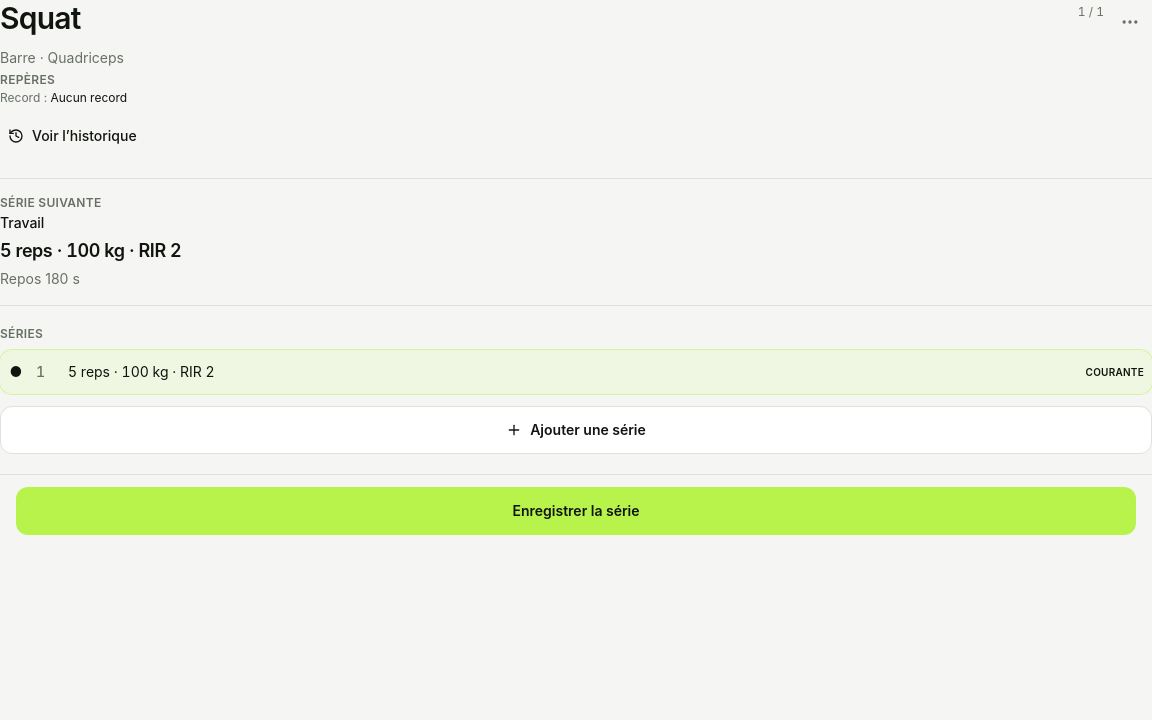
Test: Modifier la cible d’une série pendant la séance › envoie uniquement la cible modifiée et confirme
Click the button with aria-label "Série 1," at [141, 372], box [0, 350, 1151, 394]
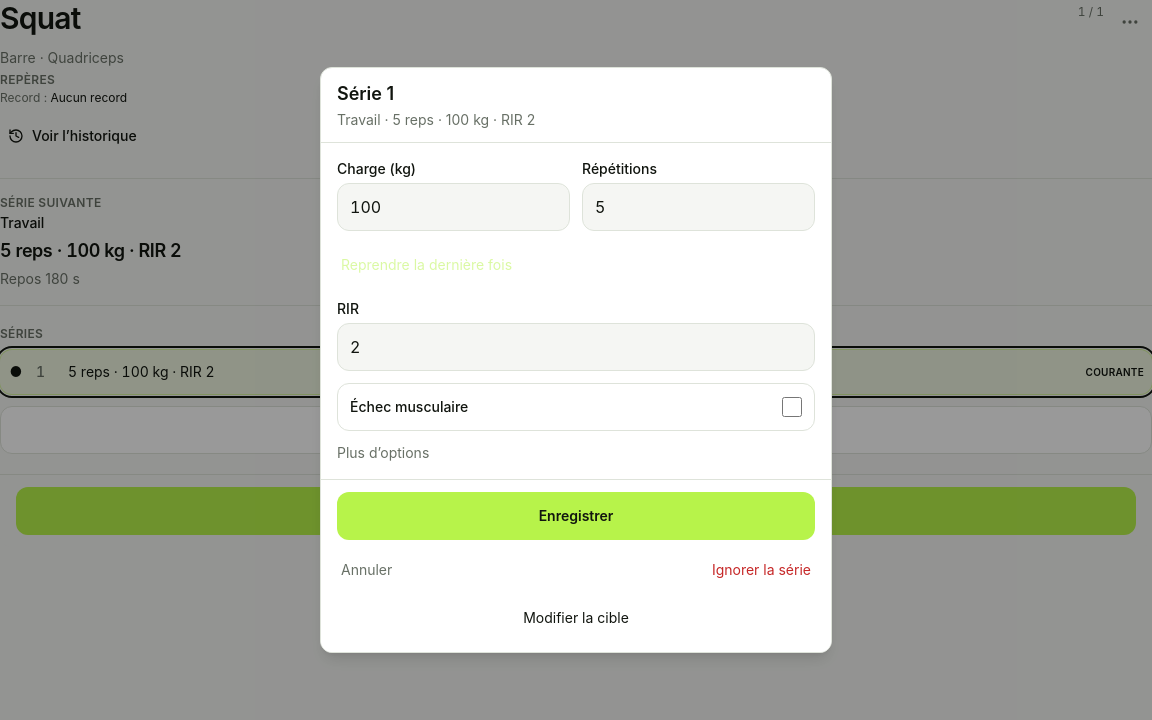
Click the button "Modifier la cible" at [576, 618], box [337, 596, 815, 640]
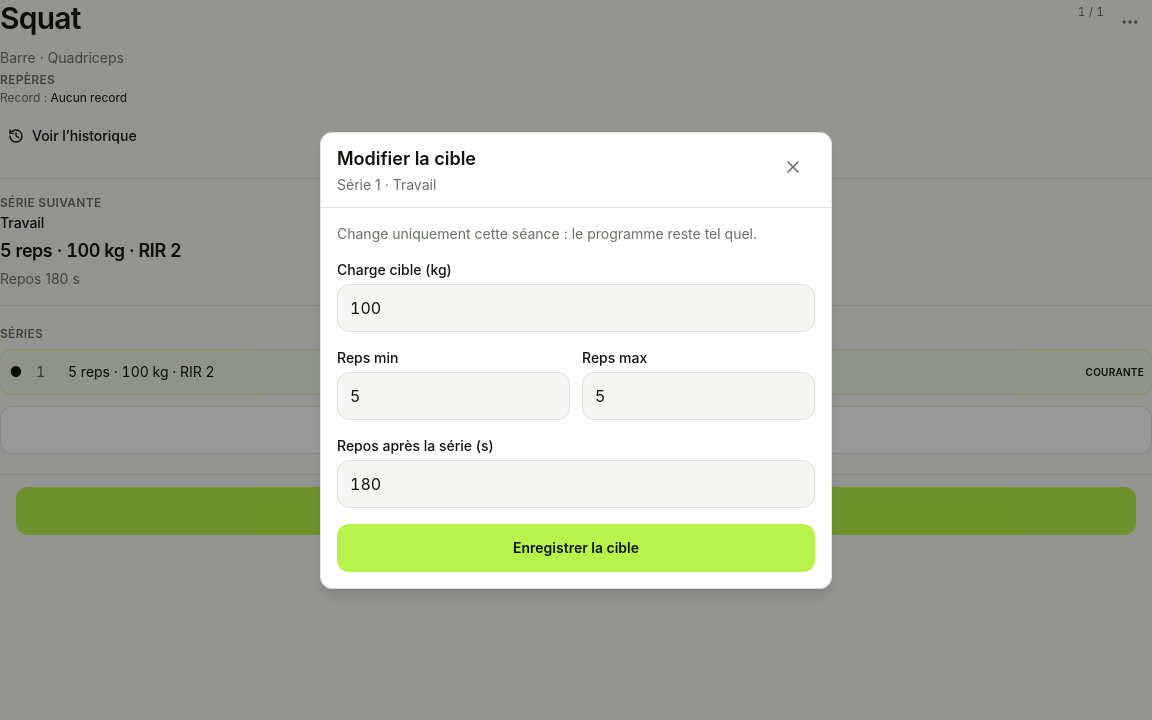
expect the field labelled "Charge cible (kg)" holds "100": met
Replace the text in the field labelled "Charge cible (kg)" with "102,5" at [576, 308], box [337, 284, 815, 332]
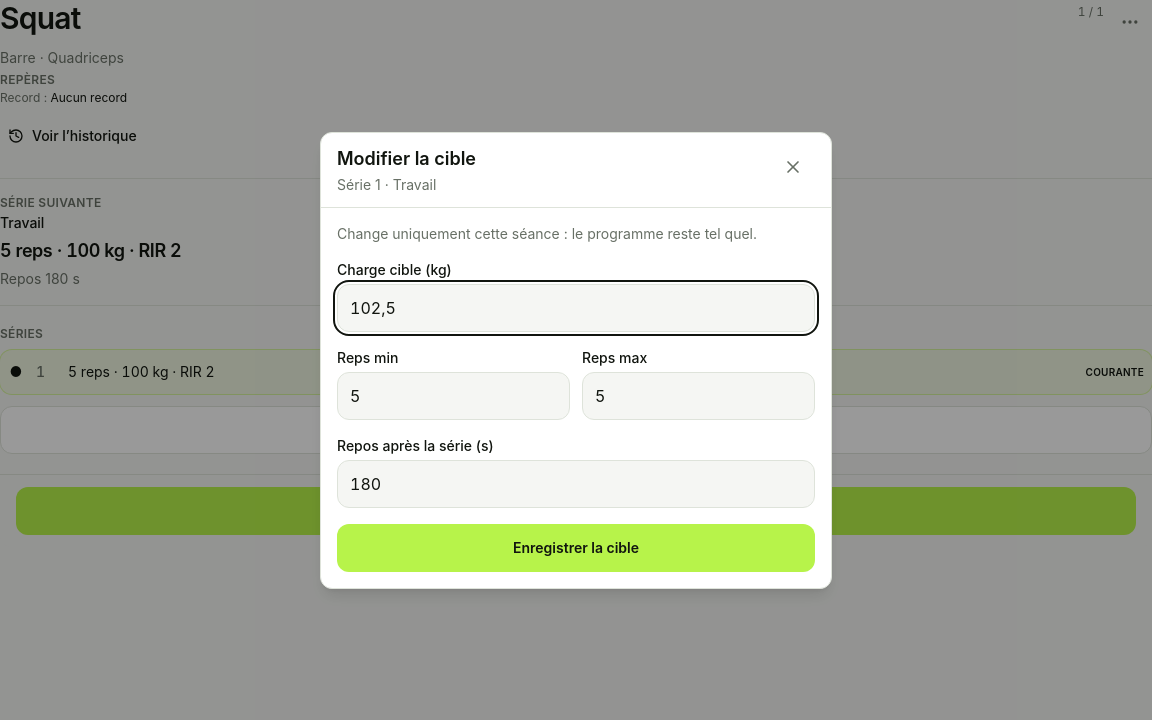
Click the button "Enregistrer la cible" at [576, 548], box [337, 524, 815, 572]
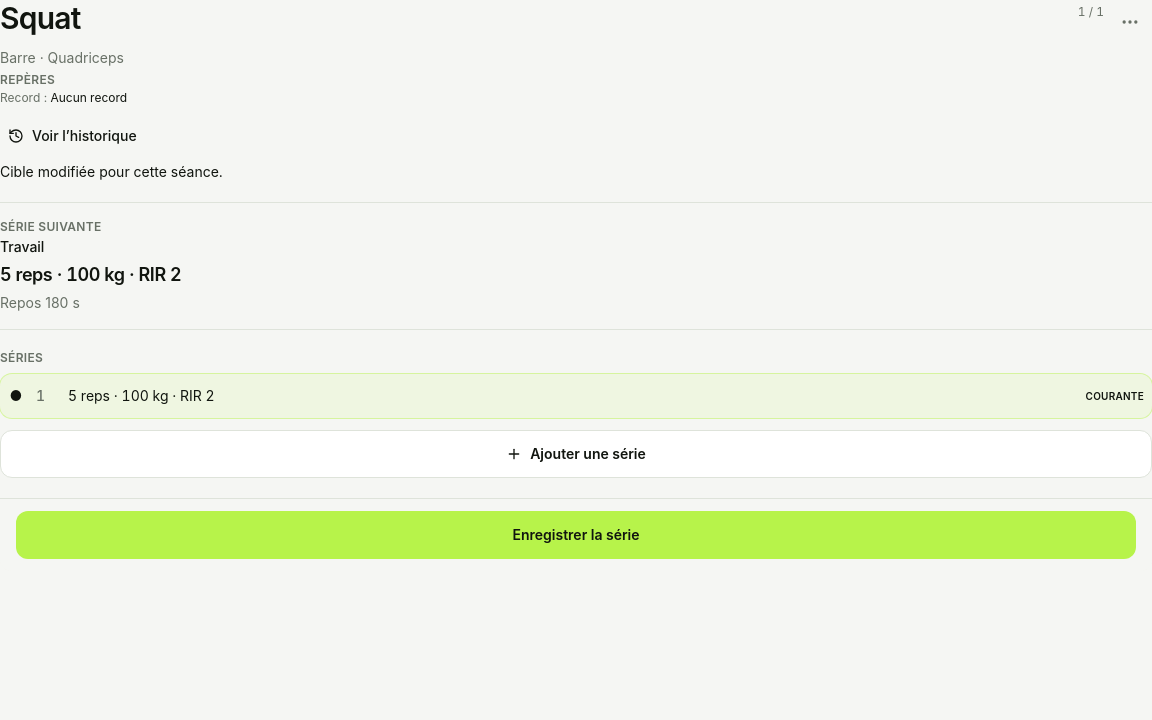
expect the text "Cible modifiée pour cette séance." is shown: met, box [0, 163, 223, 180]
expect the dialog is gone: met
